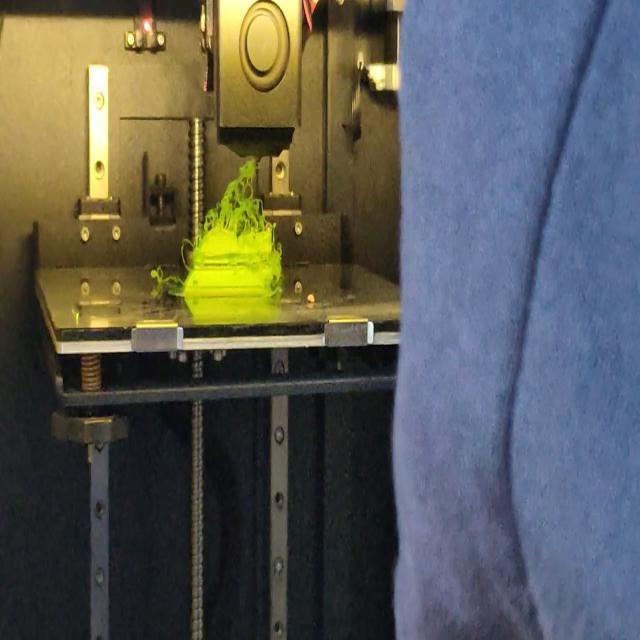spaghetti: (201, 159, 269, 233), (152, 263, 184, 292), (182, 236, 200, 266), (271, 281, 283, 292)
